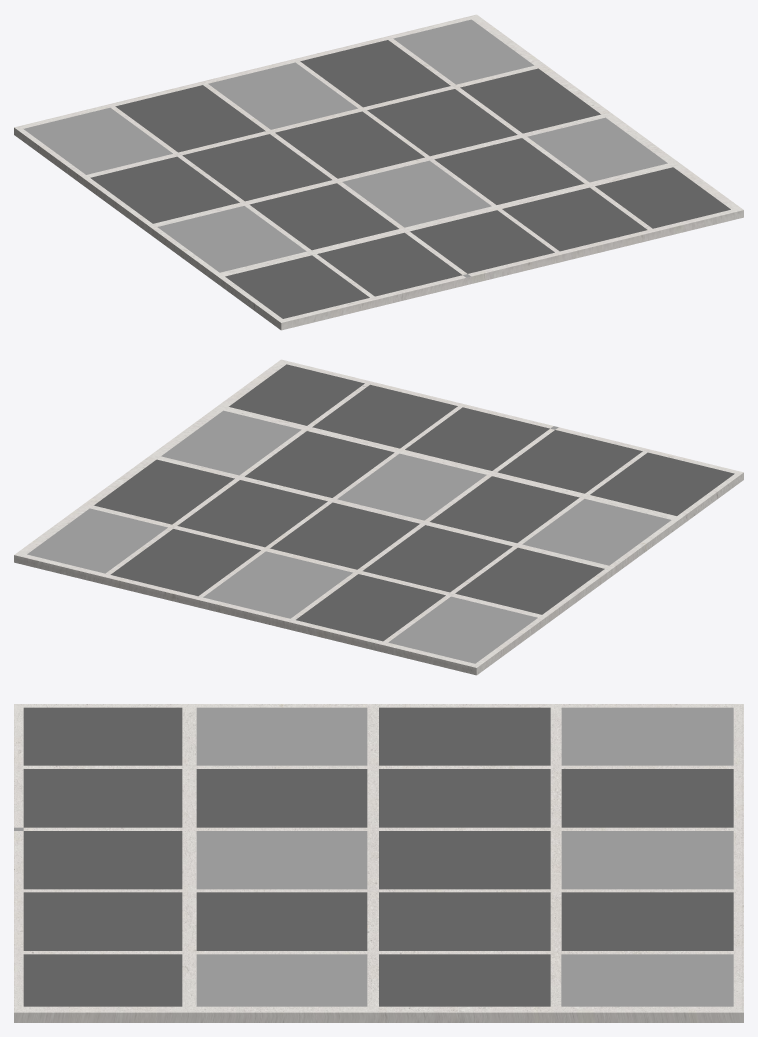
File: Roof-Tile.fbx
The picture shows the model from 3 angles, top to bottom: view 1: azimuth 30°, elevation 25°; view 2: azimuth 150°, elevation 25°; view 3: azimuth 270°, elevation 25°; orthographic projection. The views are drawn at different scales.
Visible parts, largest first — view 1: pCube2; view 2: pCube2; view 3: pCube2.
Boxes of the visible parts, x1,y1,x2,y2 form: pCube2: [14, 14, 743, 330]; pCube2: [14, 359, 743, 675]; pCube2: [14, 704, 743, 1022].
Size of the model in its own units: 511 by 7.9 by 511.
